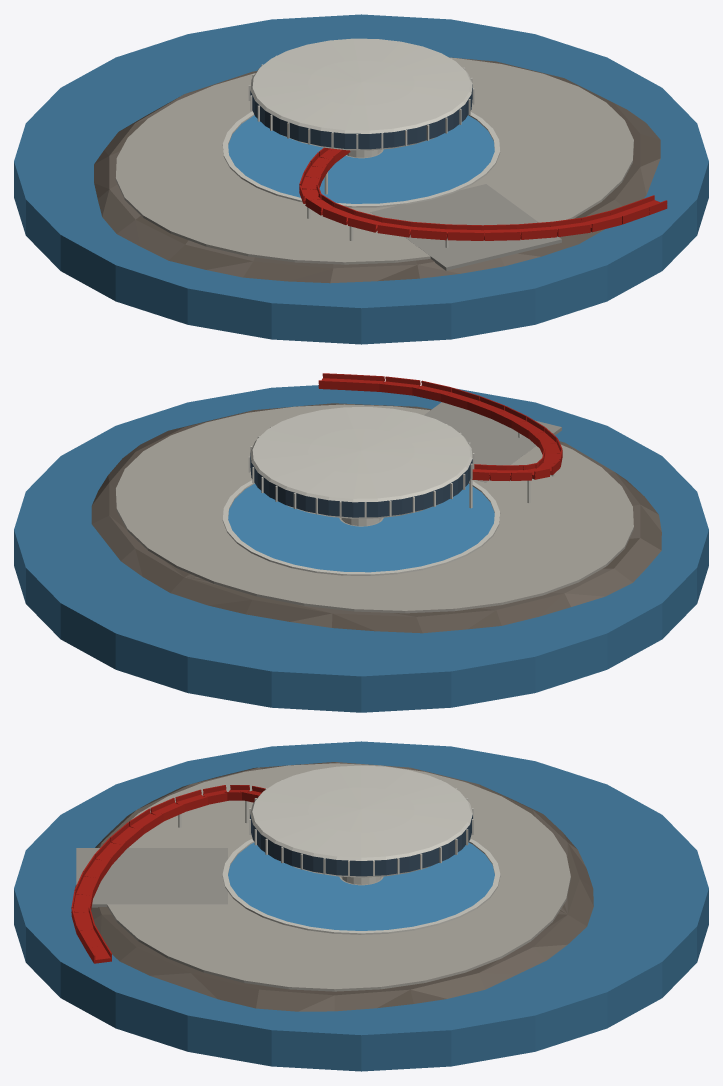
The model's file is mac_niteroi.glb.
3 views of the same model, one above another, from view 1: azimuth 30°, elevation 25°; view 2: azimuth 150°, elevation 25°; view 3: azimuth 270°, elevation 25° (orthographic).
Visible parts, largest first — view 1: mac_niteroi; view 2: mac_niteroi; view 3: mac_niteroi.
Boxes of the visible parts, x1,y1,x2,y2 form: mac_niteroi: (14,14,708,344); mac_niteroi: (14,373,708,712); mac_niteroi: (14,741,708,1071).
Size of the model in its own units: 156 by 28.6 by 156.
